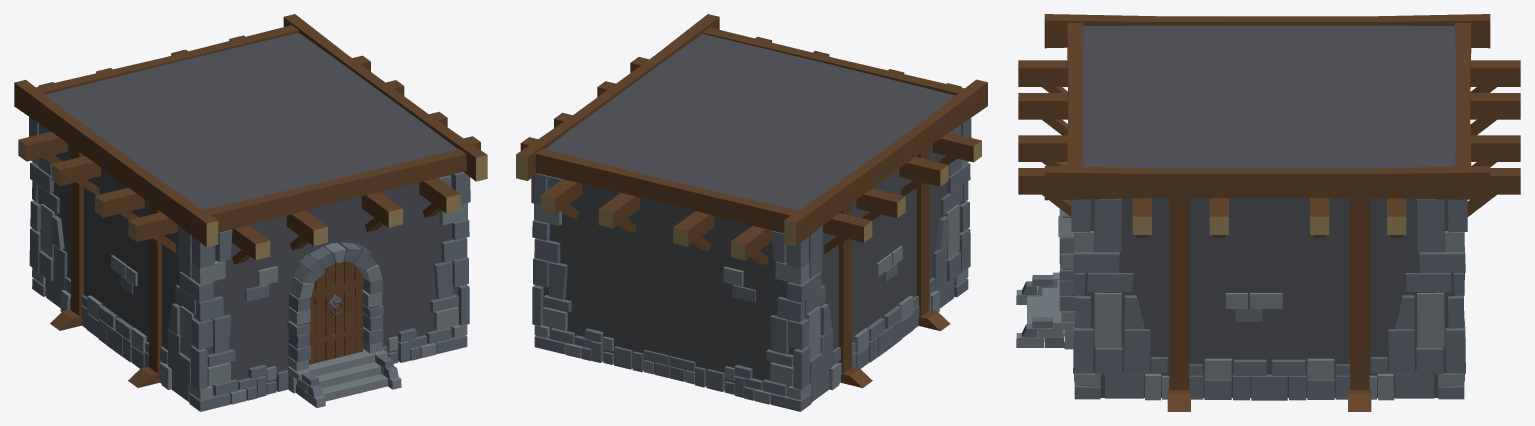
File: House_4.gltf
The picture shows the model from 3 angles, left to right: view 1: azimuth 30°, elevation 25°; view 2: azimuth 150°, elevation 25°; view 3: azimuth 270°, elevation 25°; orthographic projection. The views are drawn at different scales.
Visible parts, largest first — view 1: House_4_Cube.037; view 2: House_4_Cube.037; view 3: House_4_Cube.037.
Part boxes in pixels (<box>): House_4_Cube.037: <box>14,14,487,411</box>; House_4_Cube.037: <box>516,14,987,411</box>; House_4_Cube.037: <box>1016,14,1520,411</box>.
Bounding box in the file's own units: 1.94 × 1.07 × 2.12.
